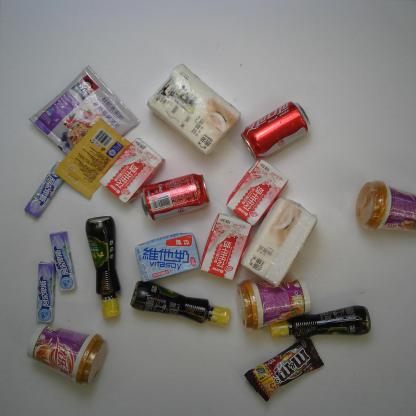Candy: (24, 162, 70, 219), (49, 230, 78, 294), (33, 261, 57, 325)
Chocolate: (243, 337, 325, 403)
Drink: (240, 101, 313, 161), (138, 173, 212, 220)
Instant Drink: (28, 65, 141, 162), (26, 324, 108, 386), (232, 277, 313, 332), (353, 178, 416, 236)
Milk: (99, 137, 166, 206), (226, 160, 289, 227), (198, 212, 252, 281), (134, 231, 202, 283)
Seasoner: (53, 118, 133, 200), (130, 281, 230, 329), (84, 215, 123, 321), (267, 306, 372, 341)
Tissue: (146, 64, 242, 154), (239, 197, 319, 289)
